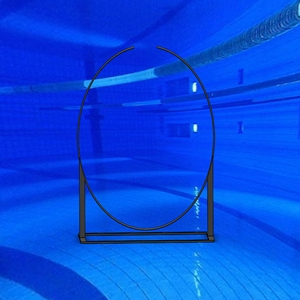circle: (77, 45, 216, 243)
